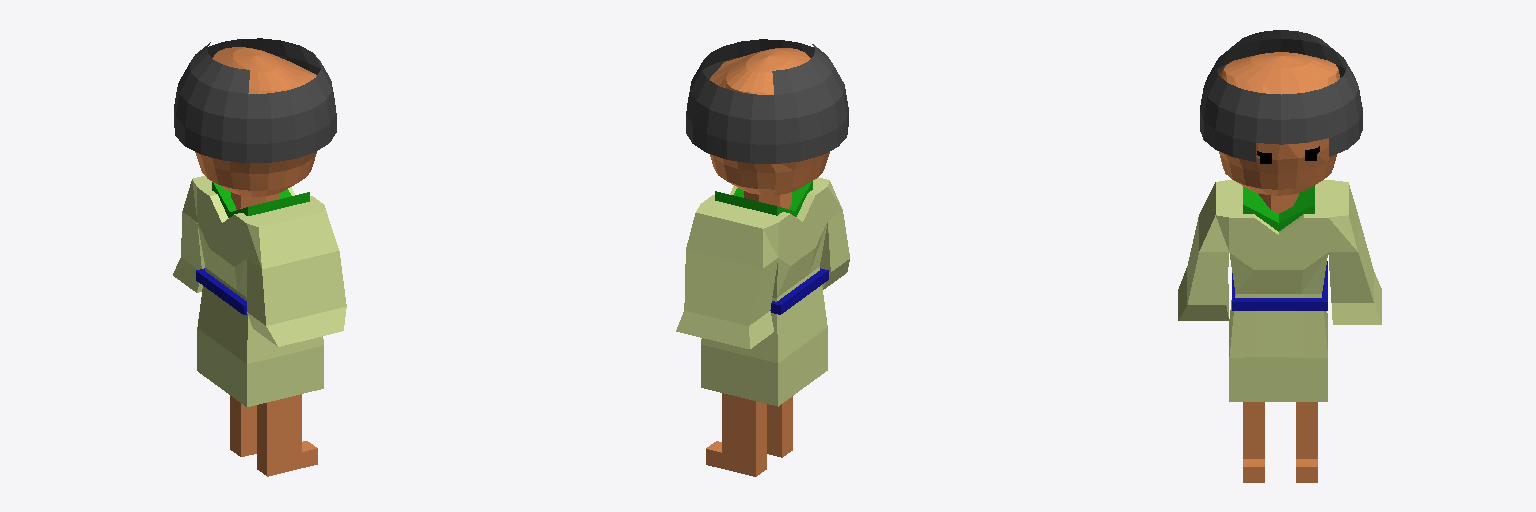
File: yeye.obj
3 views of the same model, side by side, from view 1: azimuth 30°, elevation 25°; view 2: azimuth 150°, elevation 25°; view 3: azimuth 270°, elevation 25° (orthographic).
Visible parts, largest first — view 1: Box004, Sphere002, Sphere001, Box007, Box008, Box003, Box005; view 2: Box004, Sphere002, Sphere001, Box008, Box007, Box003, Box005; view 3: Box004, Sphere002, Sphere001, Box007, Box008, Box003, Box005.
Part boxes in pixels (x1,y1,x2,y2): Box004: (173, 176, 346, 406); Sphere002: (174, 38, 336, 162); Sphere001: (195, 47, 316, 209); Box007: (257, 394, 317, 476); Box008: (230, 396, 256, 456); Box003: (212, 182, 309, 217); Box005: (196, 268, 246, 314); Box004: (676, 177, 849, 406); Sphere002: (686, 39, 848, 163); Sphere001: (709, 48, 829, 208); Box008: (706, 393, 766, 476); Box007: (767, 396, 792, 457); Box003: (715, 181, 812, 216); Box005: (770, 268, 828, 314); Box004: (1178, 180, 1381, 401); Sphere002: (1200, 30, 1362, 161); Sphere001: (1219, 52, 1339, 213); Box007: (1243, 402, 1264, 482); Box008: (1296, 402, 1317, 482); Box003: (1243, 185, 1314, 231); Box005: (1232, 261, 1327, 310).
Size of the model in its own units: 27.02 by 75.09 by 33.62.